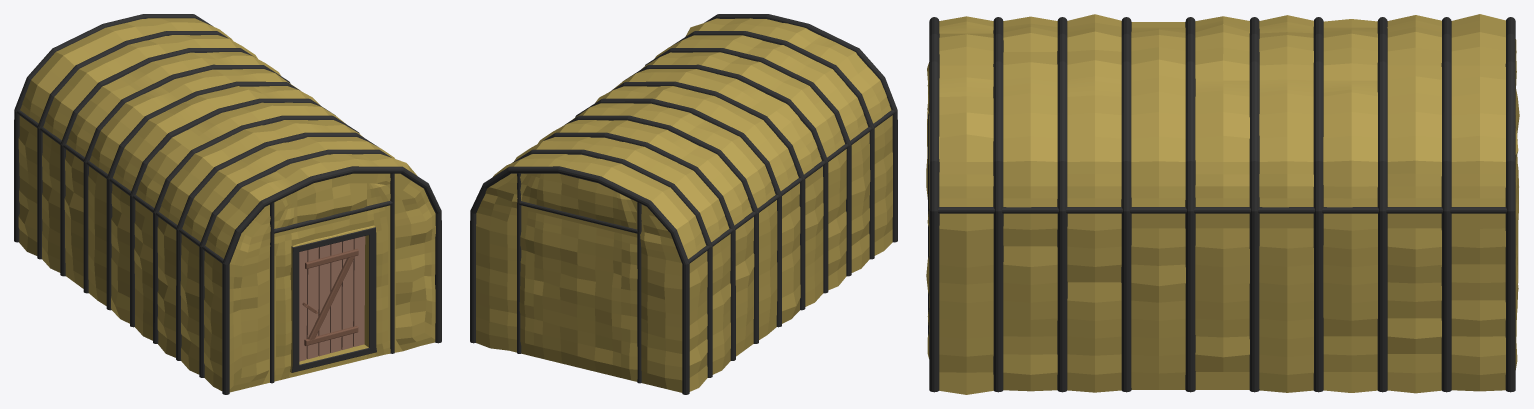
Rendered from kiparisovaya_hut.fbx.
3 views of the same model, side by side, from view 1: azimuth 30°, elevation 25°; view 2: azimuth 150°, elevation 25°; view 3: azimuth 270°, elevation 25° (orthographic). The views are drawn at different scales.
Parts seen in each view (by area): view 1: kiparisovaya_hut; view 2: kiparisovaya_hut; view 3: kiparisovaya_hut.
Boxes of the visible parts, x1=… form: kiparisovaya_hut: x1=14, y1=14, x2=441, y2=394; kiparisovaya_hut: x1=470, y1=14, x2=897, y2=394; kiparisovaya_hut: x1=926, y1=14, x2=1519, y2=394.
Bounding box in the file's own units: 96.92 × 82.57 × 161.
